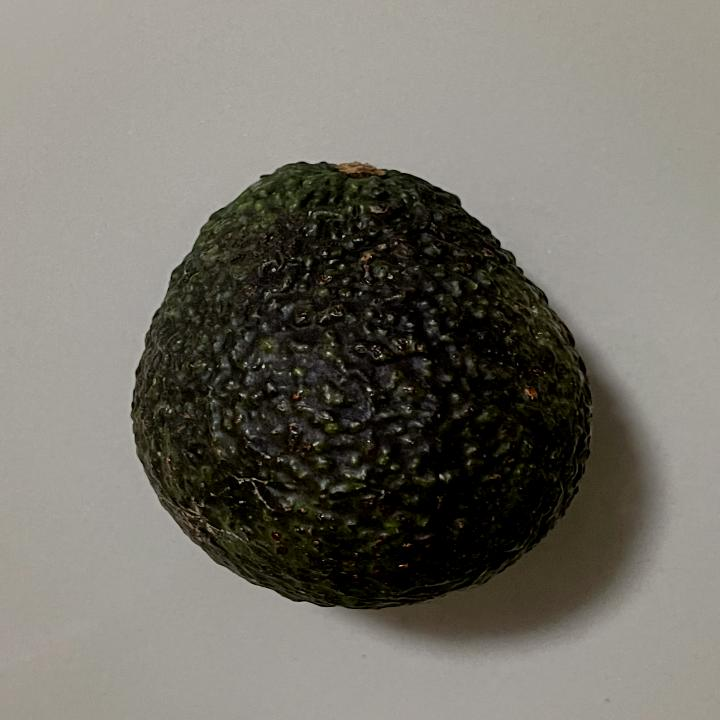Level1: (115, 141, 608, 621)
